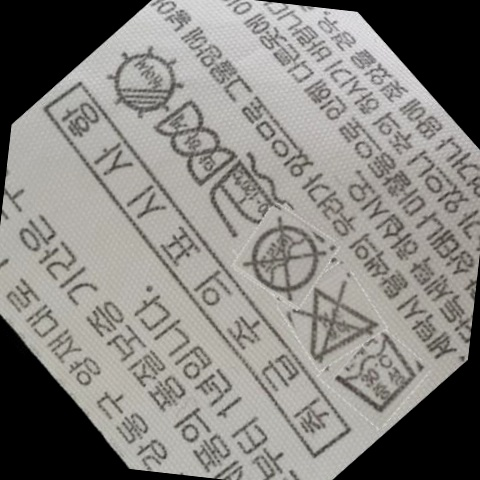DN_dry_clean: (248, 220, 326, 299)
dry_flat_in_shade: (110, 47, 187, 122)
hand_wash: (341, 332, 421, 421)
iron_low: (204, 158, 283, 242)
non_chlorine_bleach: (299, 282, 380, 362)
wring: (159, 96, 243, 186)
